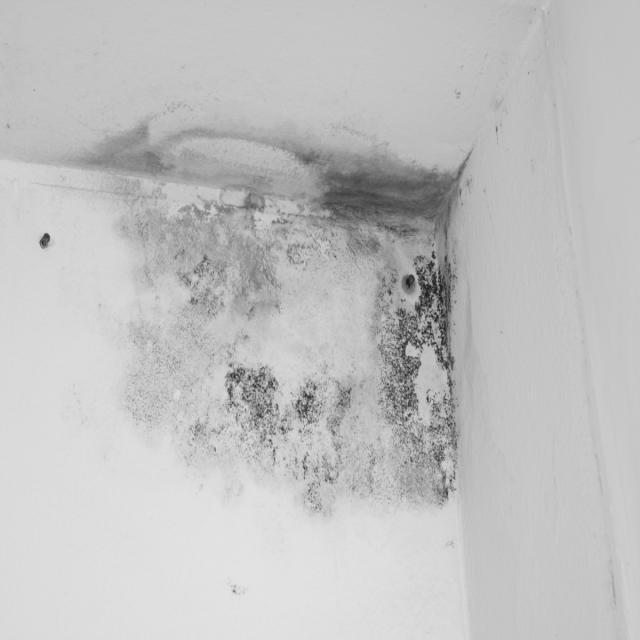stain marks: (61, 111, 477, 528), (431, 41, 530, 146), (216, 563, 256, 611), (19, 218, 58, 260), (432, 536, 466, 558)
